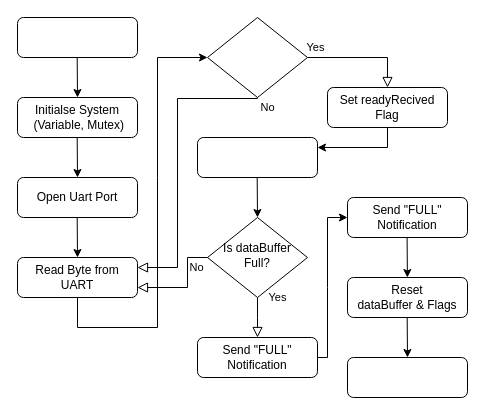
Image size: 485x415. Some labels were removed from this diagram. Each missing label, with the centre of its shape:
is "start of trasmition" byte recived: pixel 257 57
Start: pixel 77 37
Store Byte in dataBuffer: pixel 257 157
Uart Task ends: pixel 407 377
